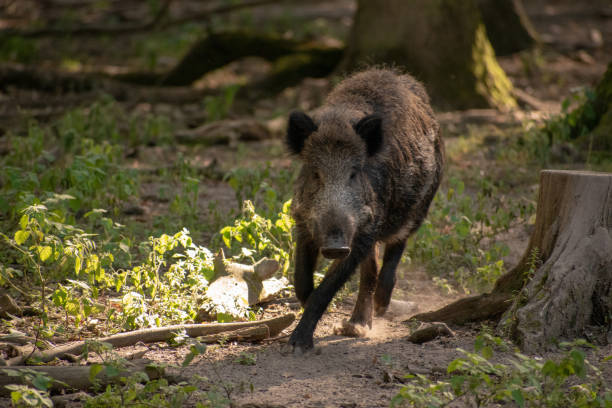pig: (289, 69, 446, 360)
